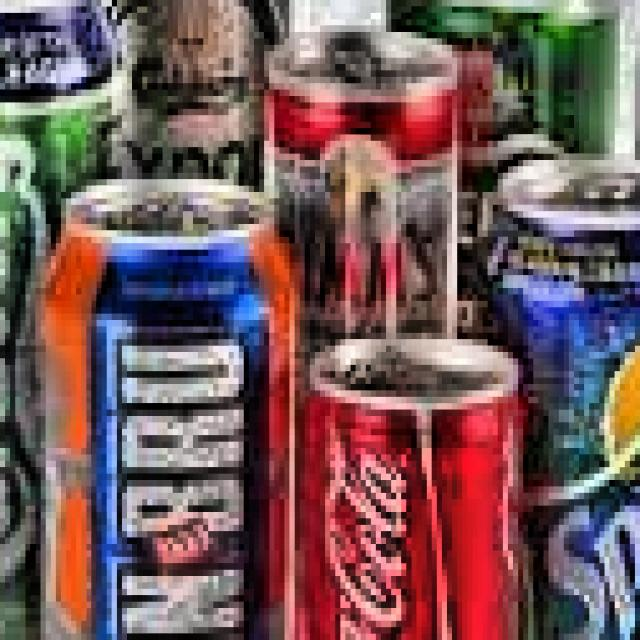metal: (10, 166, 305, 640), (381, 0, 620, 371), (254, 9, 467, 380), (0, 0, 122, 640), (482, 147, 640, 640), (300, 326, 523, 640), (51, 0, 300, 237)
